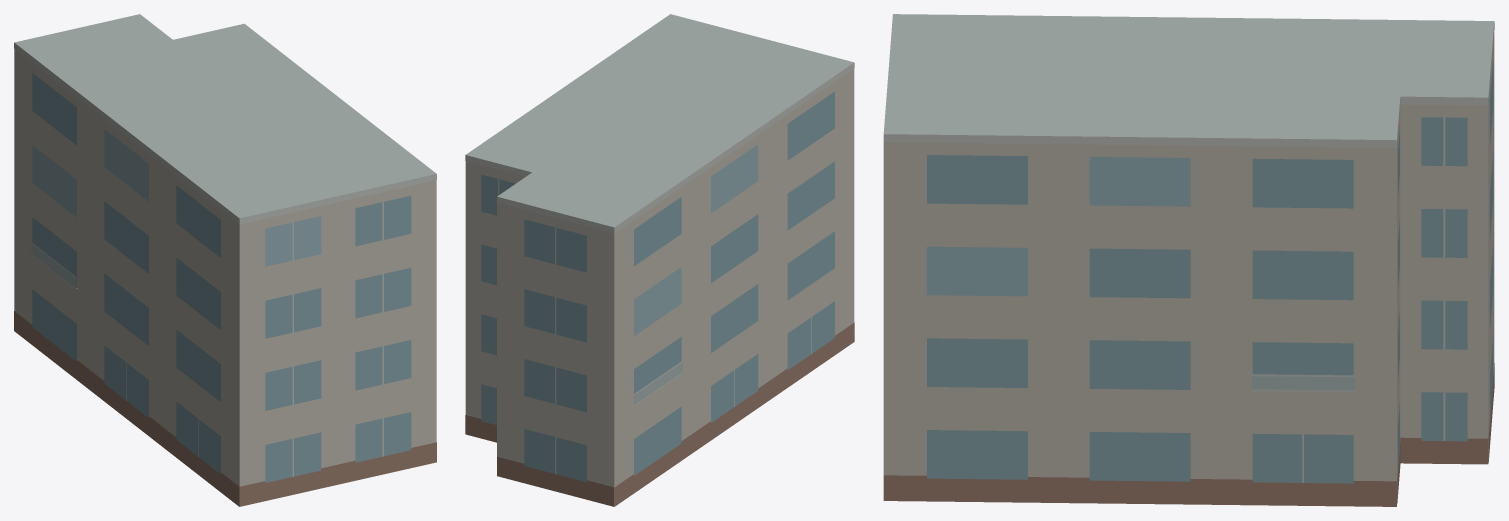
The model's file is survey-upis-32505259.glb.
3 renders of one model, left to right at view 1: azimuth 30°, elevation 25°; view 2: azimuth 150°, elevation 25°; view 3: azimuth 270°, elevation 25°, orthographic. The views are drawn at different scales.
Parts seen in each view (by area): view 1: survey-upis-32505259.tmp; view 2: survey-upis-32505259.tmp; view 3: survey-upis-32505259.tmp.
Part boxes in pixels (x1,y1,x2,y2): survey-upis-32505259.tmp: (14, 14, 436, 506); survey-upis-32505259.tmp: (465, 14, 854, 506); survey-upis-32505259.tmp: (883, 14, 1494, 506).
Size of the model in its own units: 8.42 by 11.4 by 17.22.
